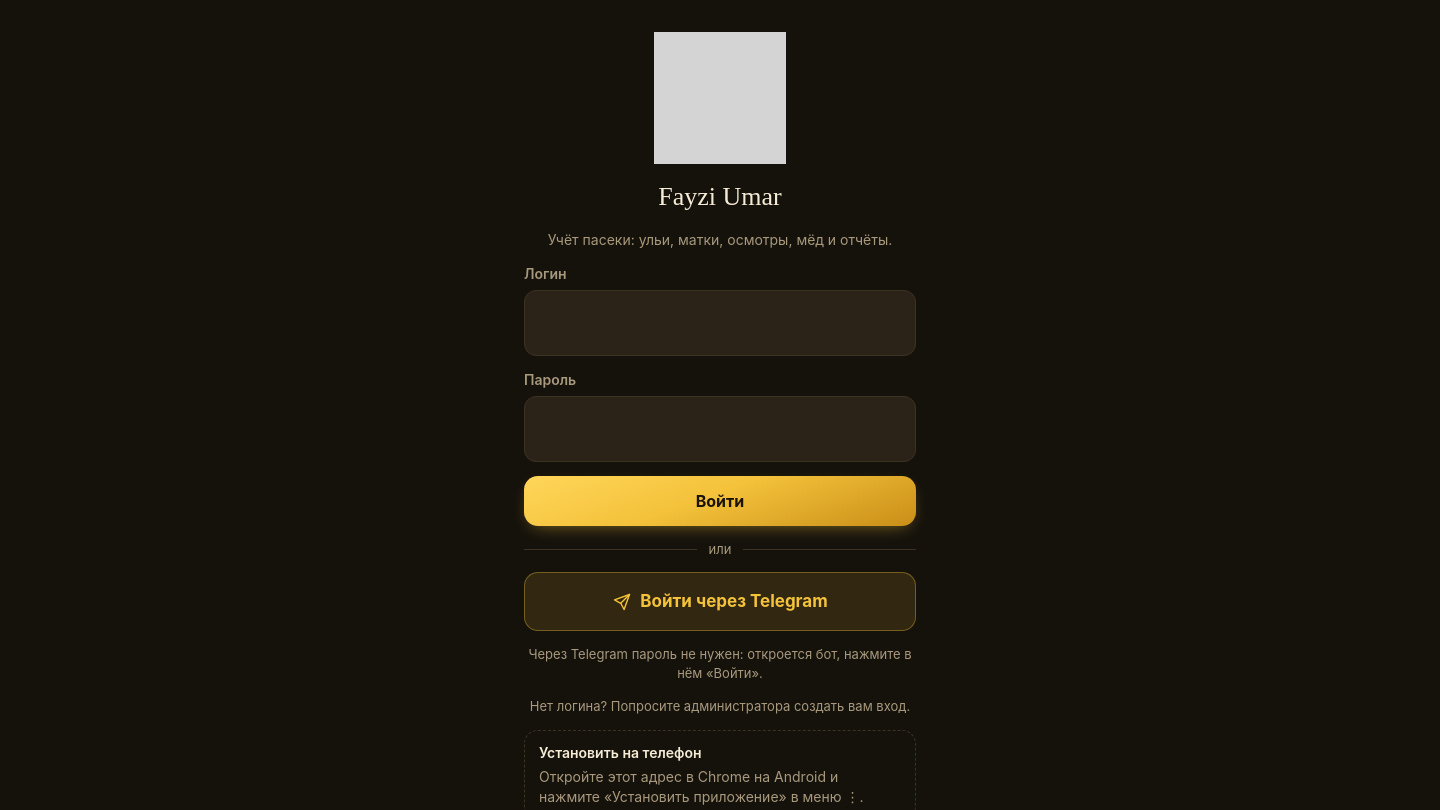
Test: App on the phone (outside Telegram) › logs in through the bot and remembers this phone
This screenshot has width=1440, height=810.
Later steps or results of the test are not shown.
What coordinates should you click on to do the following:
click the link "Войти через Telegram"
I would click on:
 (720, 602)
Its box is [524, 572, 916, 631].
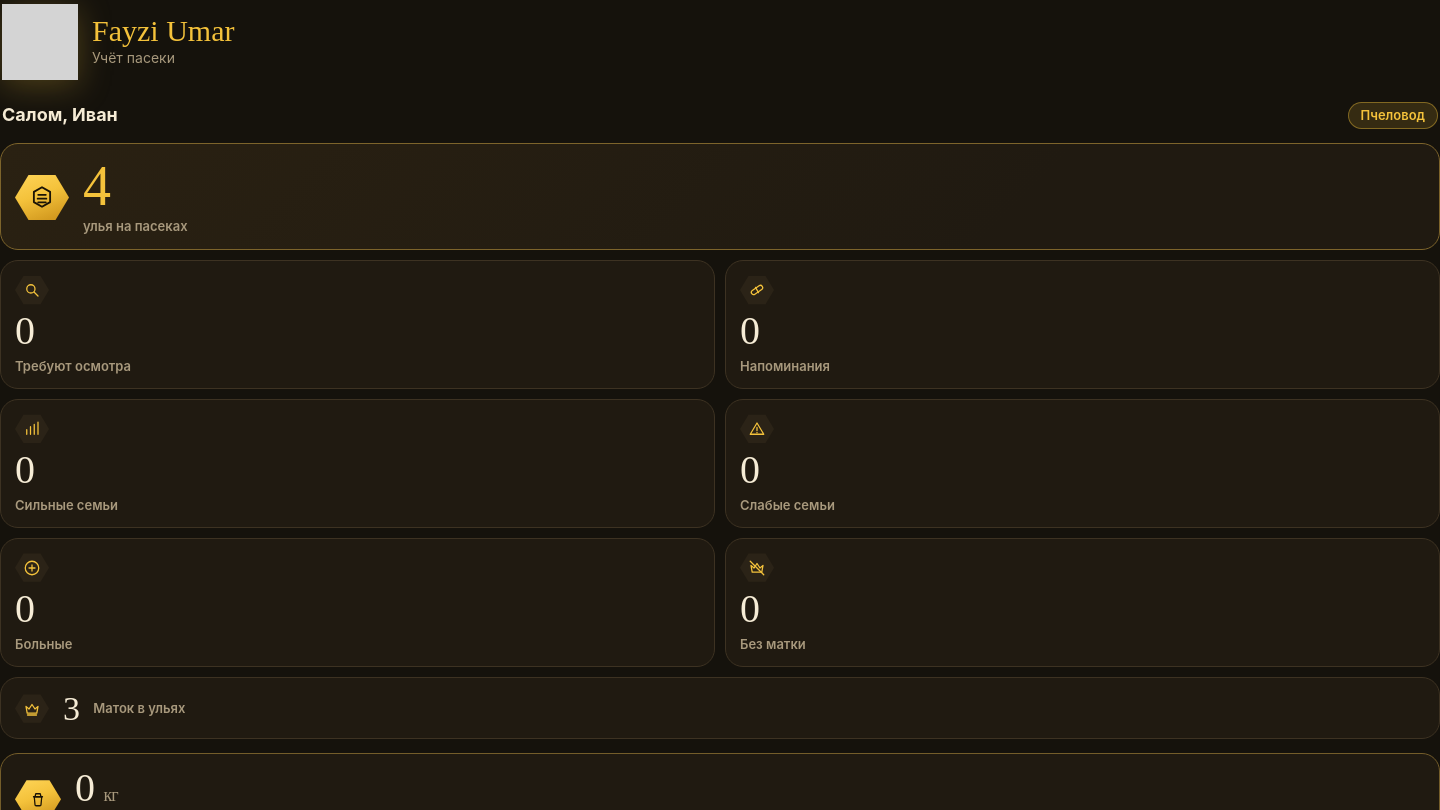
Result: the text "Салом, Иван" is shown at [2, 102, 118, 128]
